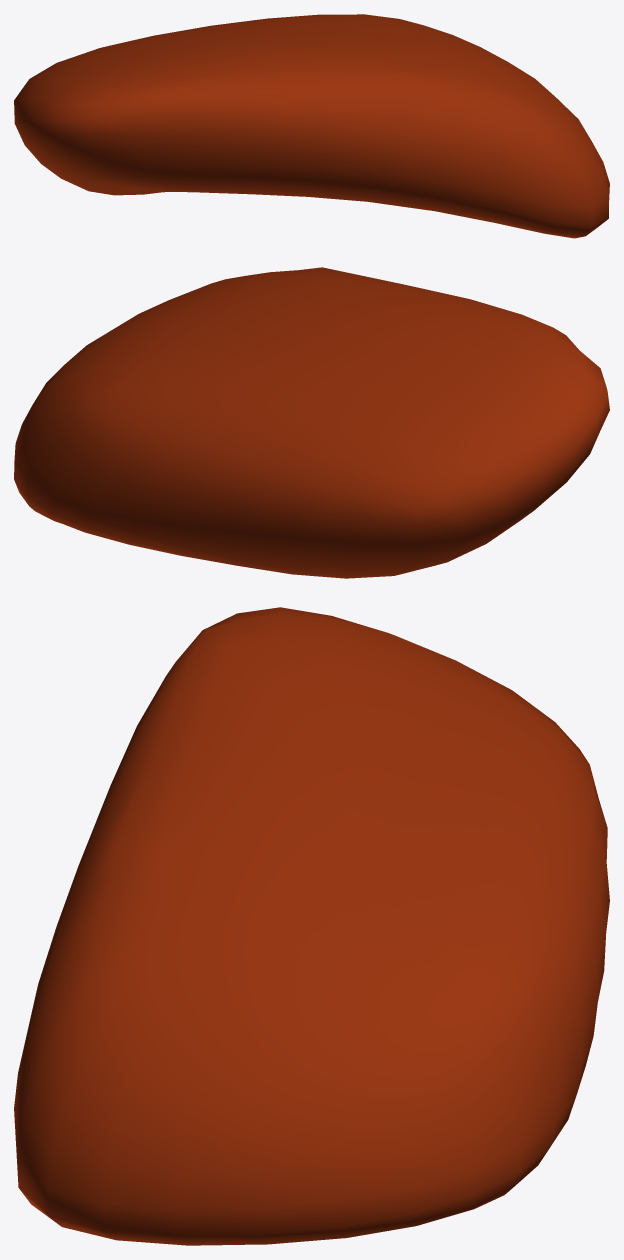
The model's file is rock_5.fbx.
3 views of the same model, one above another, from view 1: azimuth 30°, elevation 25°; view 2: azimuth 150°, elevation 25°; view 3: azimuth 270°, elevation 25° (orthographic). The views are drawn at different scales.
Visible parts, largest first — view 1: rock_5; view 2: rock_5; view 3: rock_5.
Part boxes in pixels (bbox=[...]): rock_5: bbox=[14, 14, 609, 238]; rock_5: bbox=[14, 267, 609, 578]; rock_5: bbox=[14, 607, 609, 1245].
Size of the model in its own units: 47.31 by 17.85 by 30.88.
